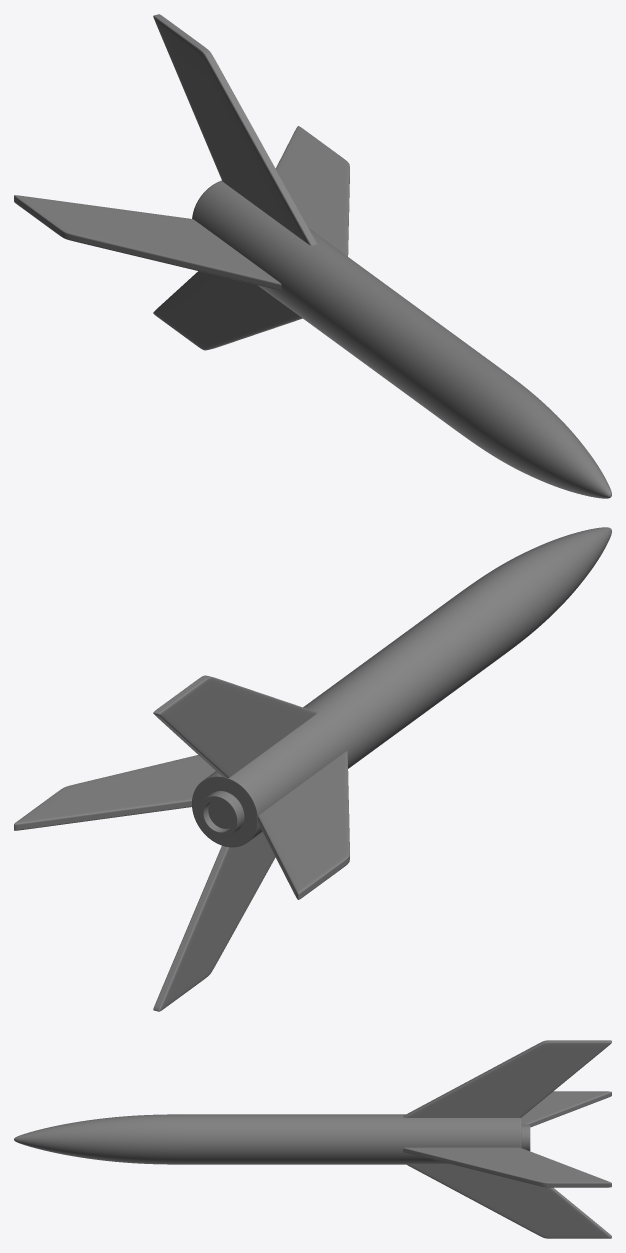
File: rocket.glb
3 renders of one model, top to bottom at view 1: azimuth 30°, elevation 25°; view 2: azimuth 150°, elevation 25°; view 3: azimuth 270°, elevation 25°, orthographic. The views are drawn at different scales.
Visible parts, largest first — view 1: node_id3; view 2: node_id3; view 3: node_id3.
Boxes of the visible parts, box(x1,y1,x2,y2) form: node_id3: box(14, 14, 611, 498); node_id3: box(14, 527, 611, 1011); node_id3: box(14, 1040, 611, 1238).
Size of the model in its own units: 0.512 by 0.512 by 1.41.
Materials: 1 (1 with a texture image).
